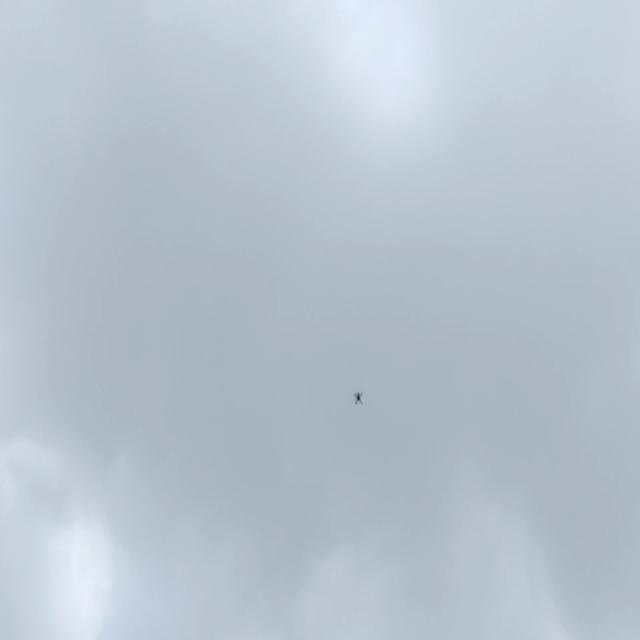drone: (348, 384, 368, 408)
